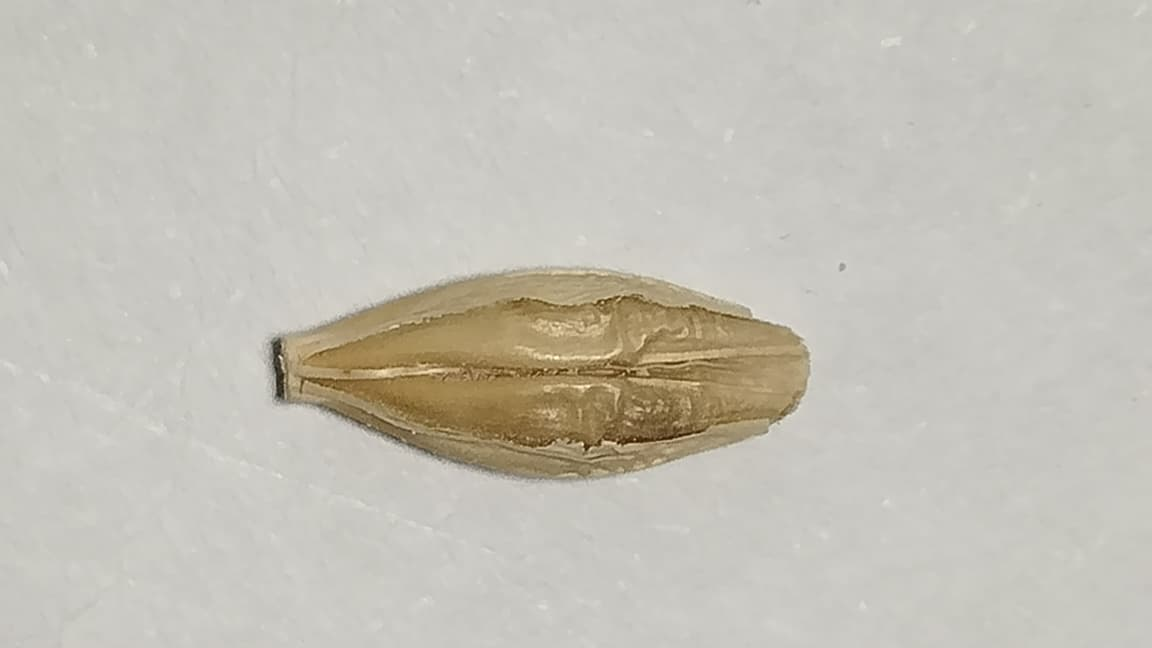healthy-50-40: (277, 271, 809, 478)
shriveledseed: (539, 294, 784, 449)
